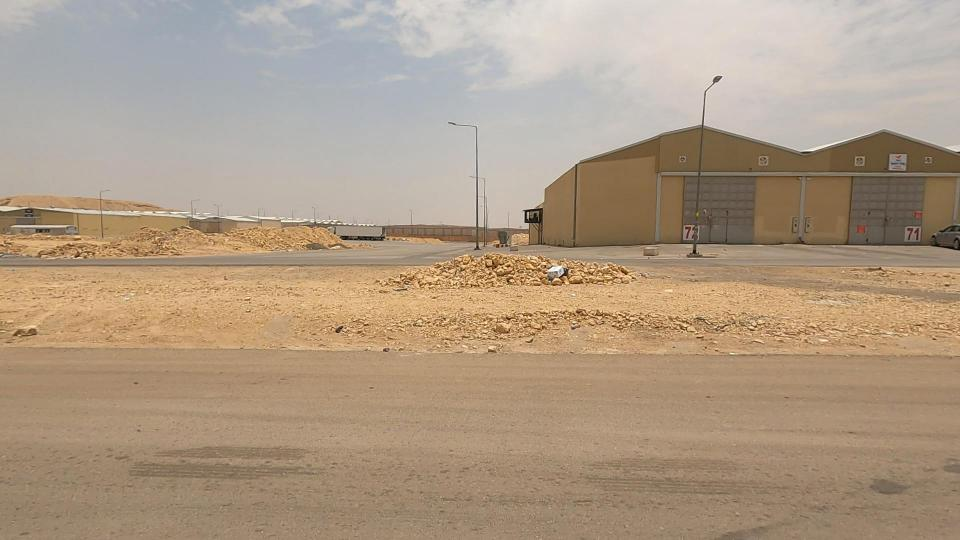GARBAGE: (520, 235, 588, 302)
